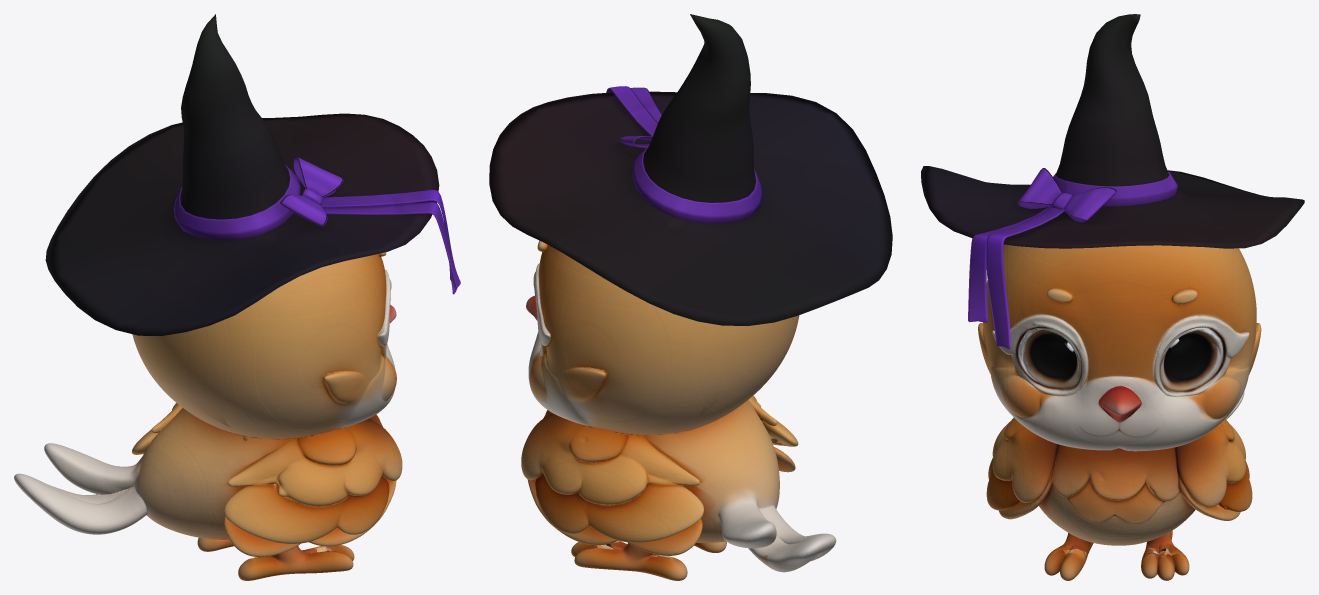
File: birdy_witch_hat.glb
The picture shows the model from 3 angles, left to right: view 1: azimuth 30°, elevation 25°; view 2: azimuth 150°, elevation 25°; view 3: azimuth 270°, elevation 25°; orthographic projection. The views are drawn at different scales.
Parts seen in each view (by area): view 1: wITCH_hAT_witchhat_mat_0, tripo_part_10_Clone, tripo_part_8_Clone, tripo_part_3_Clone, tripo_part_1_Clone, tripo_part_13_Clone, tripo_part_6_Clone, tripo_part_0_Clone; view 2: wITCH_hAT_witchhat_mat_0, tripo_part_10_Clone, tripo_part_15_Clone, tripo_part_8_Clone, tripo_part_16_Clone, tripo_part_13_Clone, tripo_part_11_Clone, tripo_part_18_Clone, tripo_part_1_Clone, tripo_part_14_Clone; view 3: wITCH_hAT_witchhat_mat_0, tripo_part_10_Clone, tripo_part_7_Clone, tripo_part_14_Clone, tripo_part_4_Clone, tripo_part_15_Clone, tripo_part_8_Clone, tripo_part_3_Clone, tripo_part_11_Clone, tripo_part_16_Clone, tripo_part_6_Clone, tripo_part_1_Clone (+3 smaller).
Part boxes in pixels (x1=…): wITCH_hAT_witchhat_mat_0: x1=45, y1=14, x2=460, y2=335; tripo_part_10_Clone: x1=132, y1=254, x2=395, y2=439; tripo_part_8_Clone: x1=130, y1=408, x2=288, y2=539; tripo_part_3_Clone: x1=227, y1=419, x2=402, y2=506; tripo_part_1_Clone: x1=224, y1=476, x2=396, y2=556; tripo_part_13_Clone: x1=14, y1=443, x2=147, y2=534; tripo_part_6_Clone: x1=238, y1=545, x2=354, y2=580; tripo_part_0_Clone: x1=323, y1=370, x2=365, y2=404; wITCH_hAT_witchhat_mat_0: x1=489, y1=14, x2=892, y2=325; tripo_part_10_Clone: x1=528, y1=245, x2=799, y2=435; tripo_part_15_Clone: x1=521, y1=413, x2=699, y2=505; tripo_part_8_Clone: x1=648, y1=400, x2=779, y2=542; tripo_part_16_Clone: x1=527, y1=473, x2=703, y2=555; tripo_part_13_Clone: x1=717, y1=489, x2=836, y2=572; tripo_part_11_Clone: x1=571, y1=540, x2=687, y2=580; tripo_part_18_Clone: x1=557, y1=364, x2=606, y2=402; tripo_part_1_Clone: x1=762, y1=418, x2=798, y2=472; tripo_part_14_Clone: x1=533, y1=264, x2=550, y2=358; wITCH_hAT_witchhat_mat_0: x1=921, y1=14, x2=1304, y2=349; tripo_part_10_Clone: x1=983, y1=244, x2=1256, y2=451; tripo_part_7_Clone: x1=1049, y1=444, x2=1178, y2=524; tripo_part_14_Clone: x1=1153, y1=315, x2=1249, y2=397; tripo_part_4_Clone: x1=992, y1=313, x2=1088, y2=396; tripo_part_15_Clone: x1=1173, y1=419, x2=1245, y2=507; tripo_part_8_Clone: x1=1039, y1=484, x2=1195, y2=545; tripo_part_3_Clone: x1=992, y1=417, x2=1057, y2=502; tripo_part_11_Clone: x1=1141, y1=530, x2=1189, y2=580; tripo_part_16_Clone: x1=1177, y1=461, x2=1252, y2=520; tripo_part_6_Clone: x1=1044, y1=533, x2=1093, y2=580; tripo_part_1_Clone: x1=986, y1=458, x2=1045, y2=519.
Bounding box in the file's own units: 0.9621 × 1.45 × 0.9648.
Materials: 2 (2 with a texture image).
